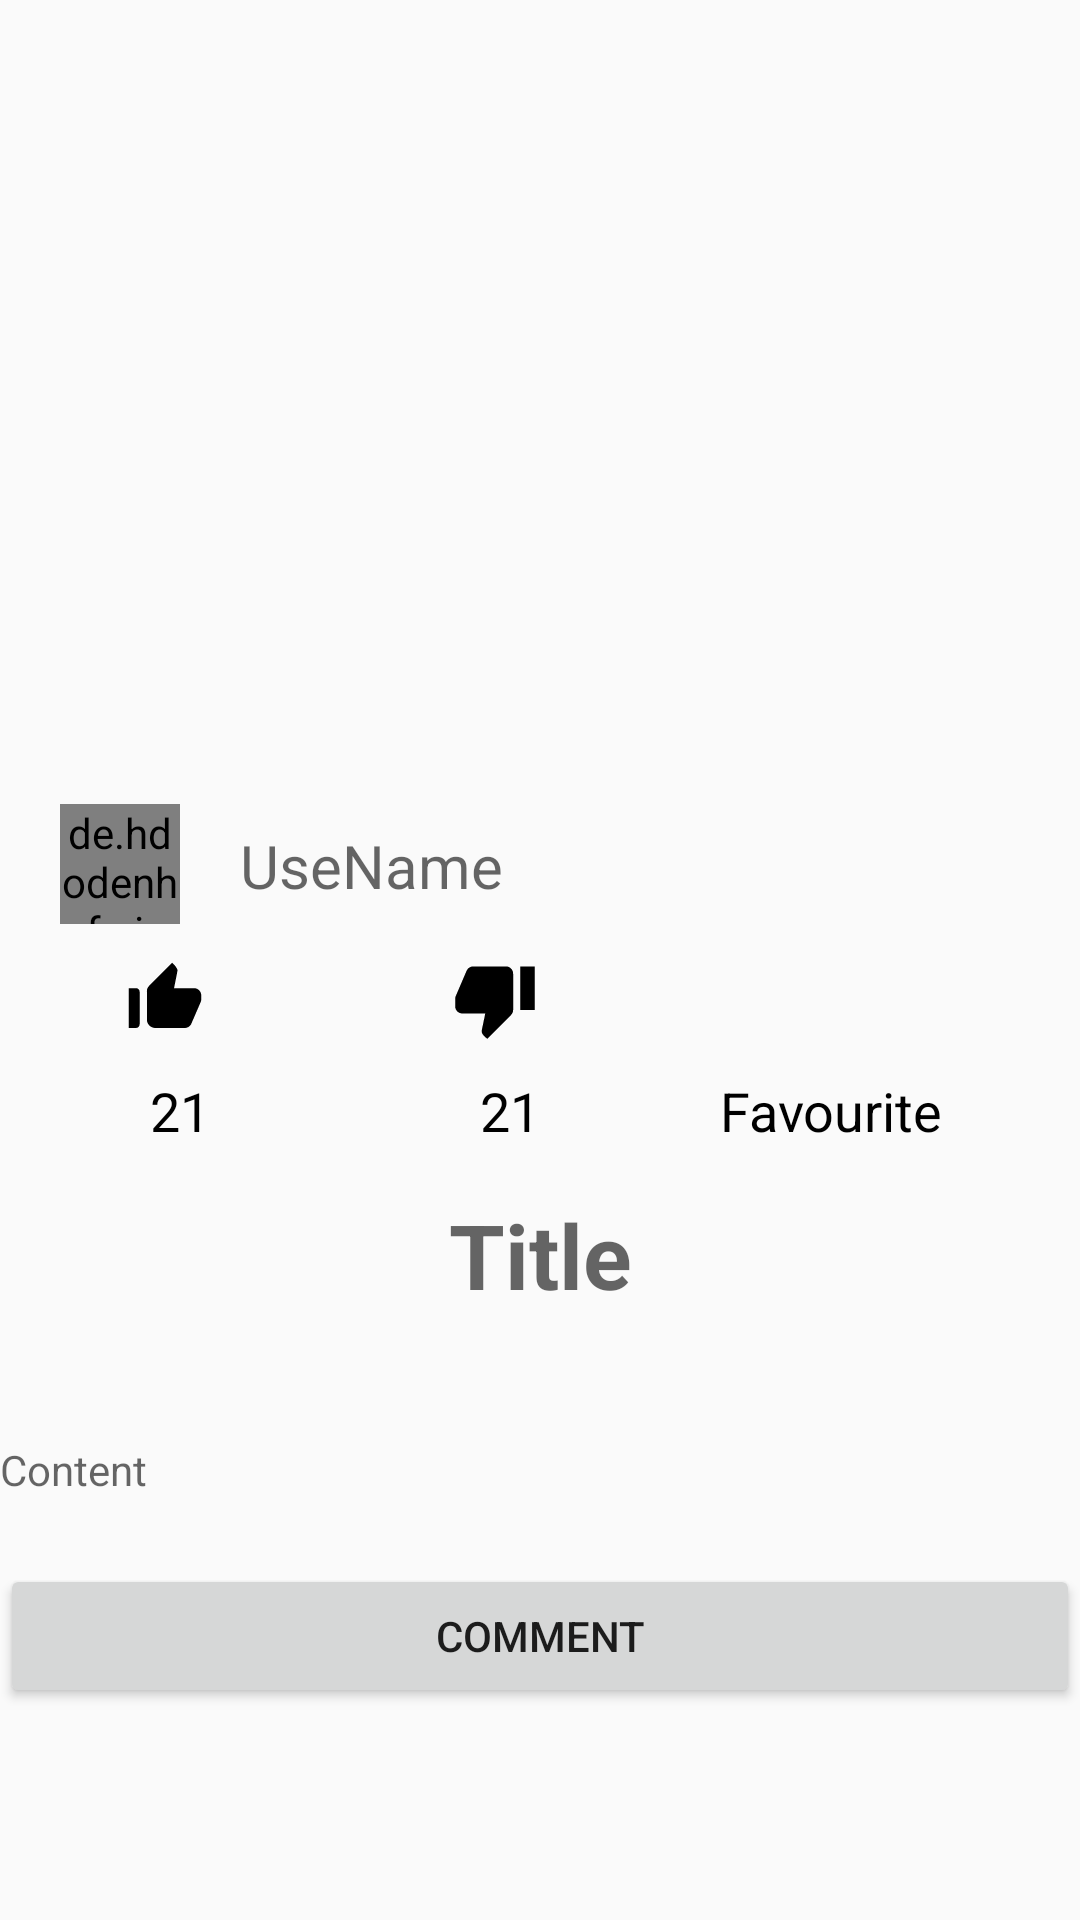

Icons on this 1080×1920 Android screen, each with the point to tap as (x=x, y=y):
thume down: (x=495, y=1002)
thume up: (x=165, y=995)
